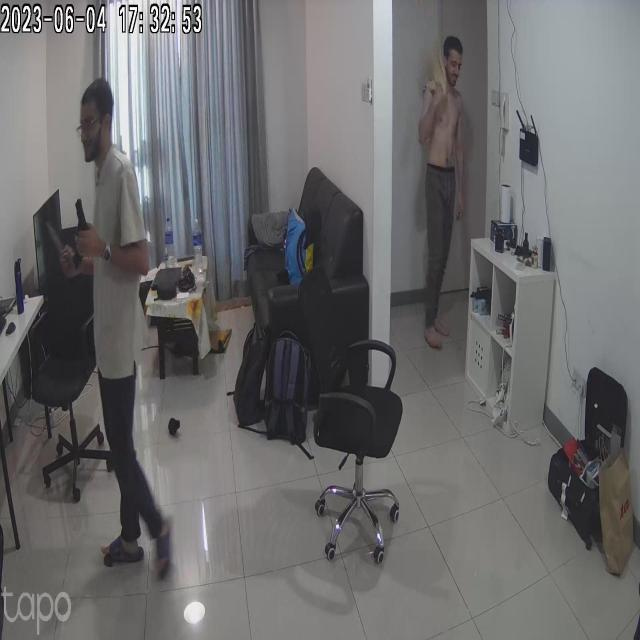Gun: (72, 193, 121, 274)
Knife: (28, 212, 72, 272)
